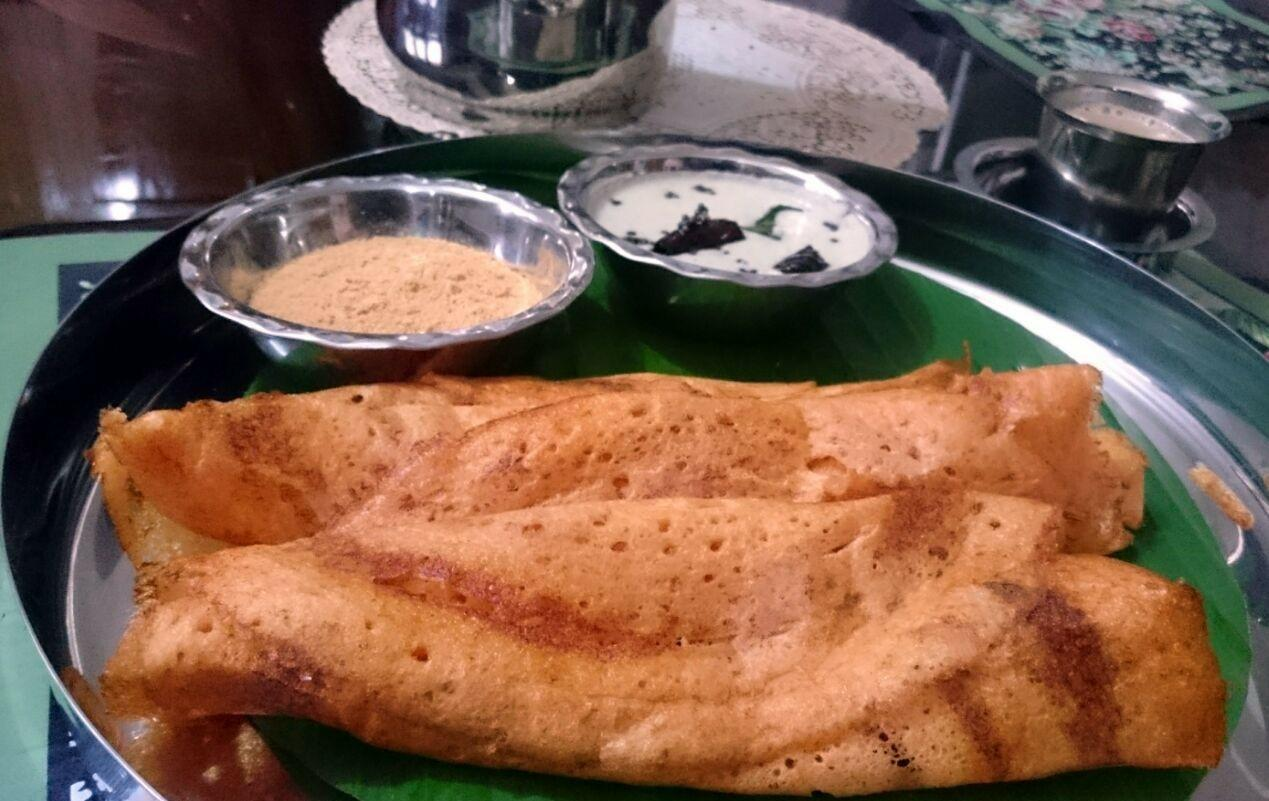CoconutChutney: (585, 174, 872, 276)
Dosa: (91, 362, 1228, 776)
